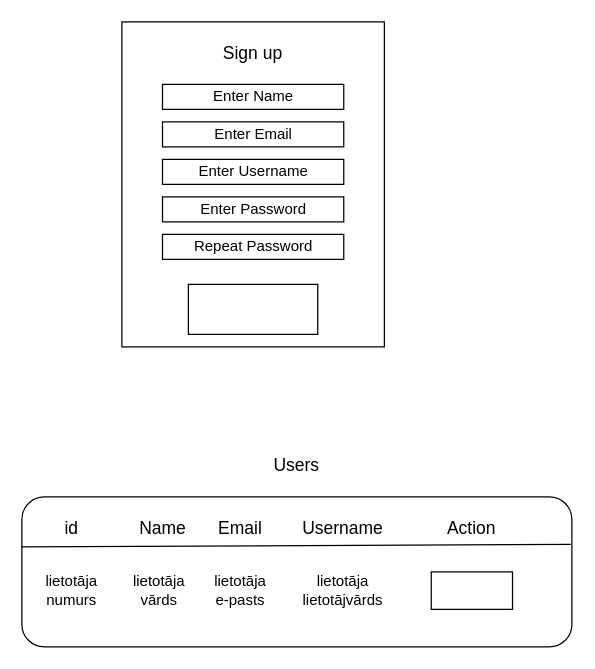
The diagram is 595 pixels wide and 669 high, and some of its shapes have lost their labels. Here are the shapes that lost their labels. From the top down, the centre of each, then its label:
At point (252, 308): "Submit".
At point (471, 590): "Block user".
